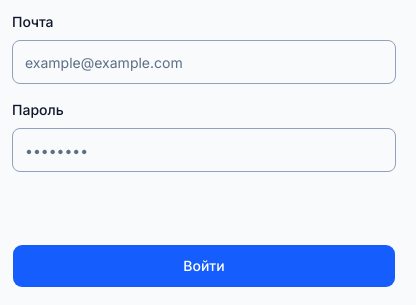
LoginPage › показывает общее сообщение при технической ошибке
The width and height of the screenshot is (416, 305).
Type "user@example.com" into the field labelled "Почта". click: (204,62)
box: 12,40 -> 396,84
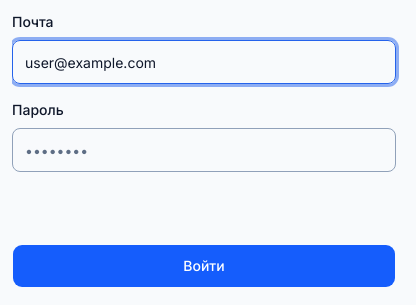
Type "secret" into the password field labelled "Пароль". click: (204,150)
box: 12,128 -> 396,172
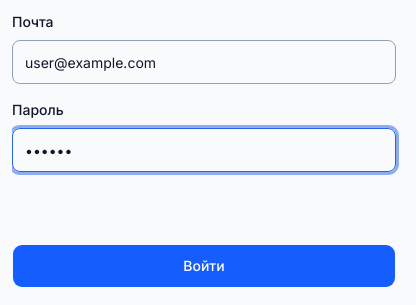
Click the button "Войти". click: (204,266)
box: 12,244 -> 396,288
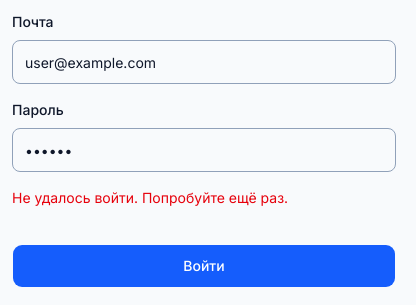
Check: the text "Не удалось войти. Попробуйте ещё раз." is shown, box 12,189 -> 288,206
